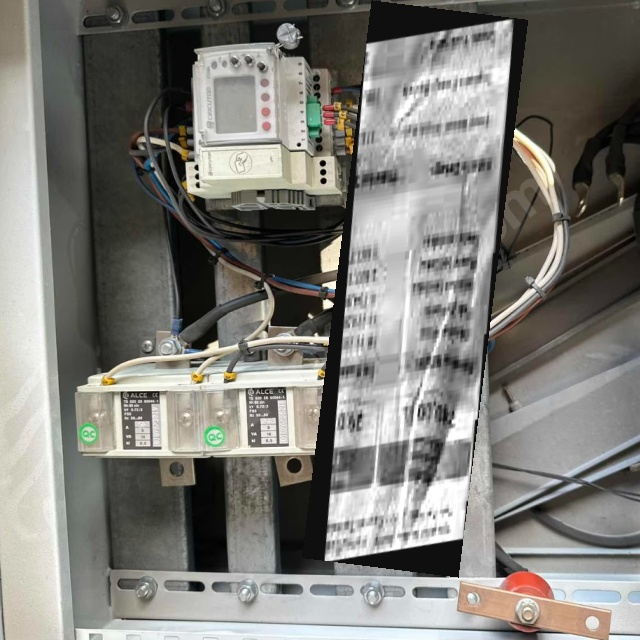electricity-bill: (301, 0, 527, 577)
